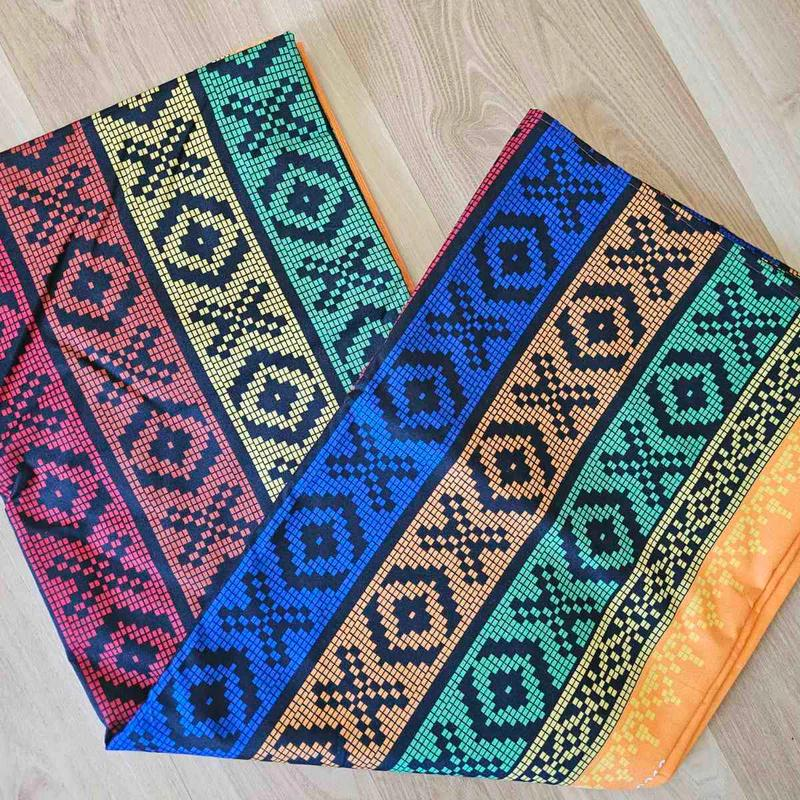malong: (8, 25, 800, 788)
